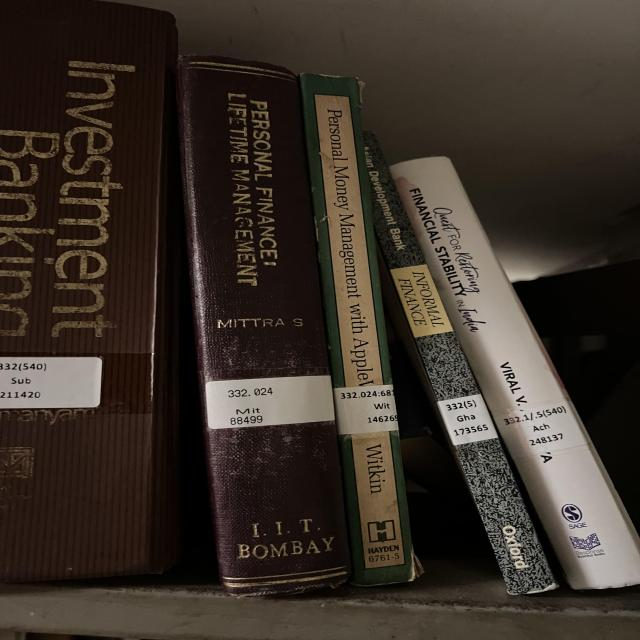Book: (392, 156, 638, 589), (0, 0, 178, 581), (178, 56, 350, 595), (363, 132, 558, 595), (300, 75, 417, 586)
Label: (205, 375, 335, 429), (495, 399, 587, 464), (0, 358, 102, 409), (333, 385, 398, 435), (437, 394, 498, 445)
